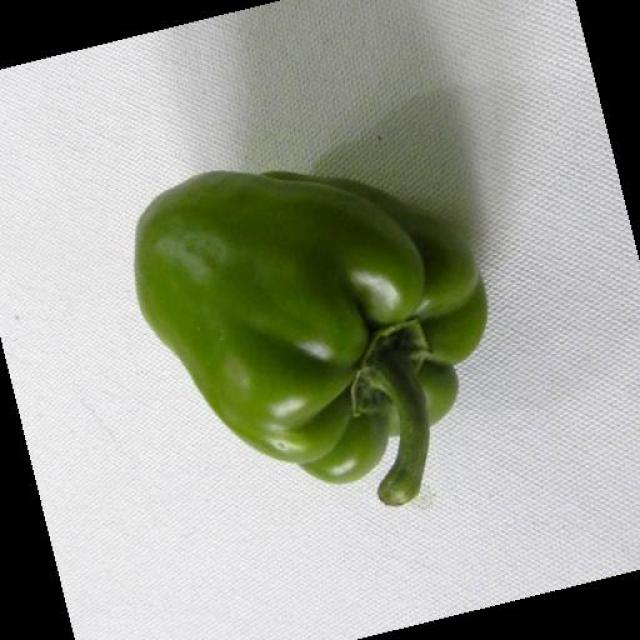Fresh_Capsicum: (148, 163, 484, 512)
